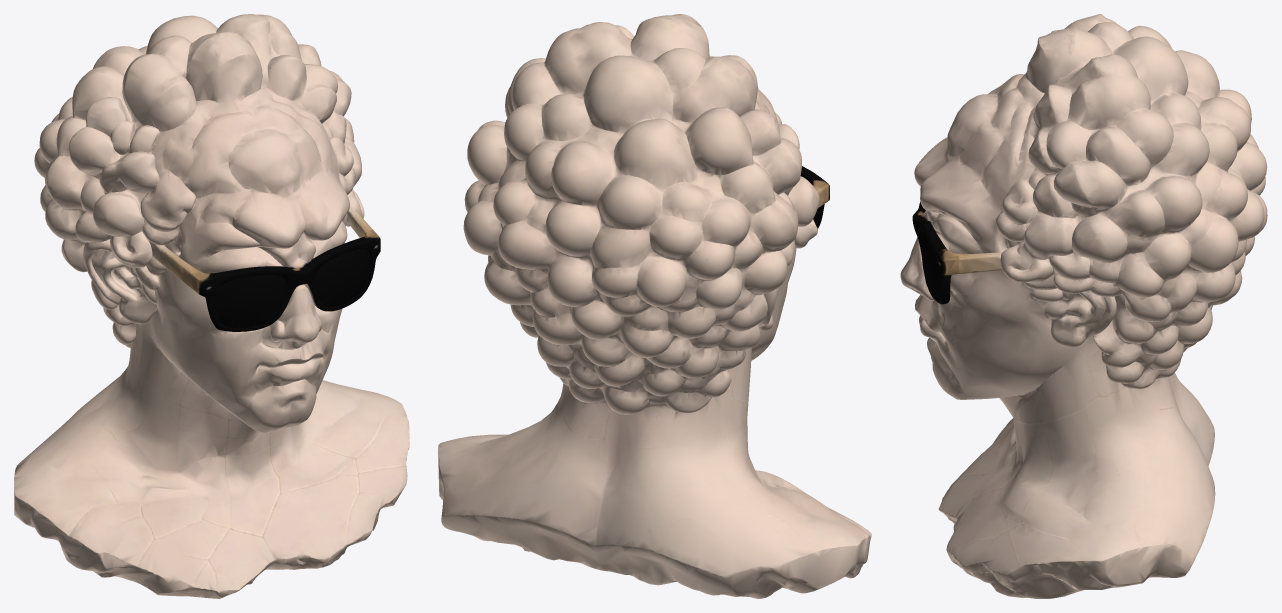
Rendered from head_opt.glb.
3 renders of one model, left to right at view 1: azimuth 30°, elevation 25°; view 2: azimuth 150°, elevation 25°; view 3: azimuth 270°, elevation 25°, orthographic. The views are drawn at different scales.
Visible parts, largest first — view 1: model; view 2: model; view 3: model.
Part boxes in pixels (x1,y1,x2,y2): model: [14, 14, 409, 598]; model: [438, 14, 871, 598]; model: [900, 14, 1267, 598].
Bounding box in the file's own units: 1.52 × 1.9 × 1.23.
Materials: 1 (1 with a texture image).
